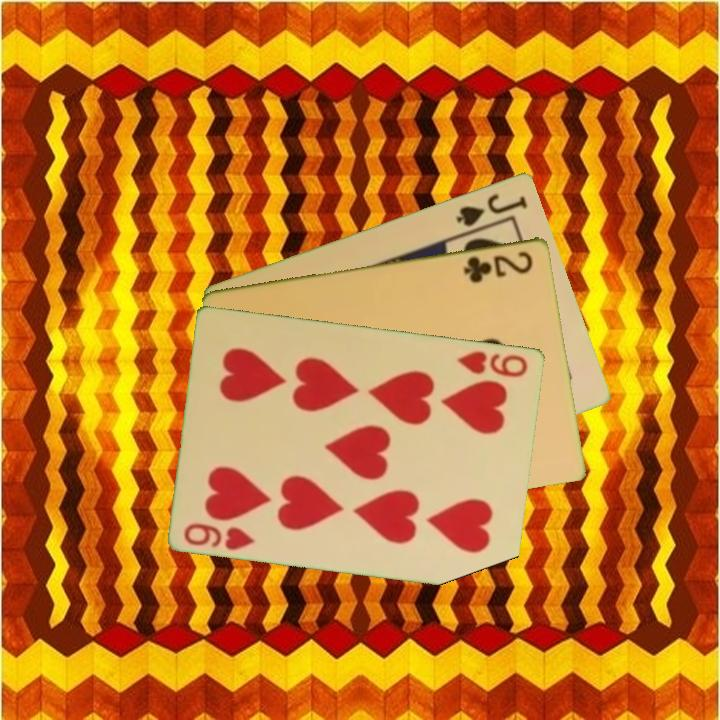2c: (460, 247, 536, 285)
9h: (180, 519, 258, 553), (454, 347, 531, 380)
Js: (452, 189, 531, 229)
